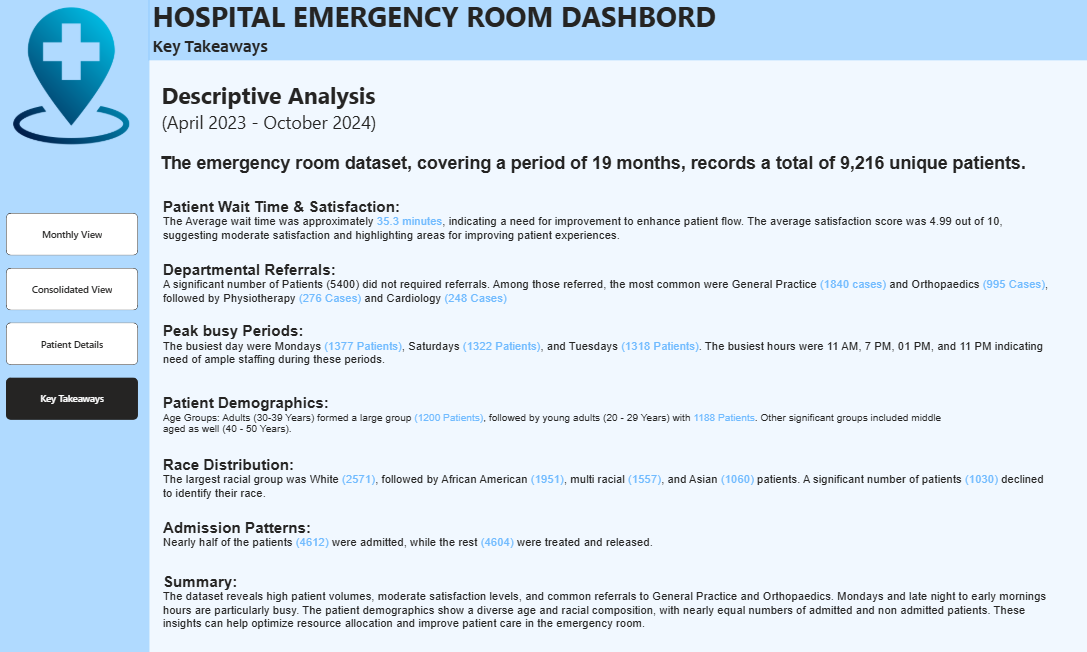

What the dashboard file says about the page in this screenshot:
{"tool":"powerbi","page":{"name":"Key Takeaways","canvas":[2300,1400],"ordinal":3},"visuals":[{"type":"shape","box":[0,0,320,1400],"z":0},{"type":"shape","box":[319.2,0,1979.7,139.2],"z":1000},{"type":"textbox","box":[321.1,0,1212.2,94.5],"z":2000},{"type":"textbox","box":[321.1,81.9,396.7,59.8],"z":3000},{"type":"image","box":[6.3,22,299.1,299.1],"z":4000},{"type":"textbox","box":[340,173.2,865.8,125.9],"z":5000},{"type":"textbox","box":[336.9,327.4,1845,72.4],"z":6000},{"type":"textbox","box":[343.2,421.9,1879.7,107],"z":7000},{"type":"textbox","box":[343.2,554.1,1879.7,103.9],"z":8000},{"type":"textbox","box":[343.2,683.2,1879.7,125.9],"z":9000},{"type":"textbox","box":[343.2,834.4,1879.7,103.9],"z":10000},{"type":"textbox","box":[343.2,963.4,1879.7,107],"z":11000},{"type":"textbox","box":[343.2,1095.7,1879.7,88.2],"z":12000},{"type":"textbox","box":[343.2,1209,1879.7,151.1],"z":13000},{"type":"pageNavigator","box":[18.9,459.7,277.1,434.5],"z":14000}]}

Visuals, with their boxes in screenshot pixels (x1, y1, x2, y2), scaled from the page's 2300x1400 canvas onto the 1087x652 screenshot:
shape: left=0, top=0, right=151, bottom=651
shape: left=151, top=0, right=1086, bottom=65
textbox: left=152, top=0, right=725, bottom=44
textbox: left=152, top=38, right=339, bottom=66
image: left=3, top=10, right=144, bottom=150
textbox: left=161, top=81, right=570, bottom=139
textbox: left=159, top=152, right=1031, bottom=186
textbox: left=162, top=196, right=1051, bottom=246
textbox: left=162, top=258, right=1051, bottom=306
textbox: left=162, top=318, right=1051, bottom=377
textbox: left=162, top=389, right=1051, bottom=437
textbox: left=162, top=449, right=1051, bottom=499
textbox: left=162, top=510, right=1051, bottom=551
textbox: left=162, top=563, right=1051, bottom=633
pageNavigator: left=9, top=214, right=140, bottom=416
